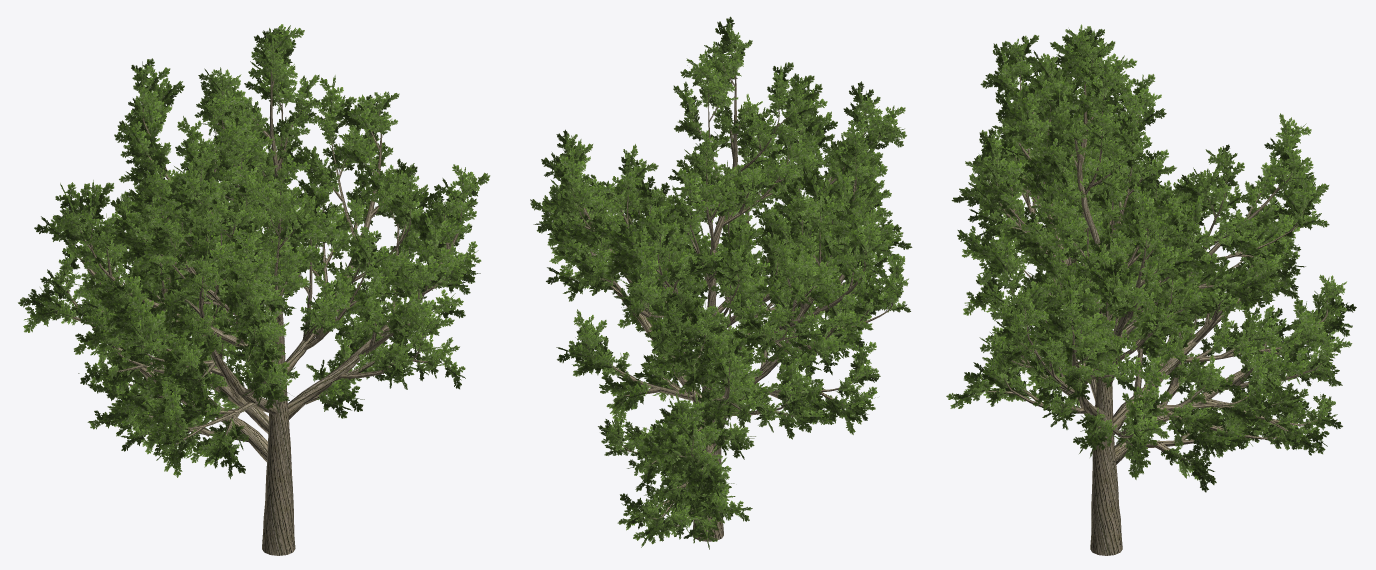
The model's file is oak_large_03.glb.
The picture shows the model from 3 angles, left to right: view 1: azimuth 30°, elevation 25°; view 2: azimuth 150°, elevation 25°; view 3: azimuth 270°, elevation 25°; orthographic projection. The views are drawn at different scales.
Visible parts, largest first — view 1: Tree; view 2: Tree; view 3: Tree.
Part boxes in pixels (x1,y1,x2,y2): Tree: [18, 24, 490, 555]; Tree: [530, 16, 912, 549]; Tree: [946, 24, 1356, 555].
Bounding box in the file's own units: 84.76 × 108 × 77.07.
2 materials, 2 textured.
